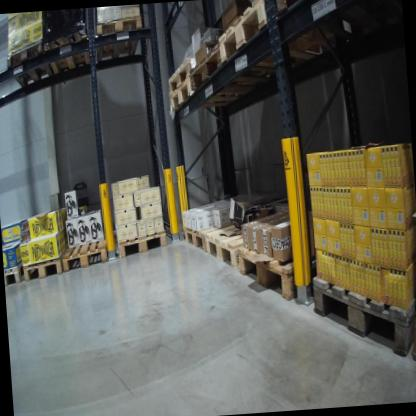pallet: (214, 0, 360, 99), (311, 253, 416, 383), (186, 31, 339, 102), (234, 231, 338, 306), (202, 219, 301, 277), (35, 16, 97, 81), (90, 11, 154, 66), (6, 35, 56, 98), (113, 222, 172, 268), (181, 210, 247, 250), (19, 246, 75, 288), (62, 231, 114, 275), (158, 45, 198, 95), (163, 75, 190, 116), (5, 253, 31, 293)
